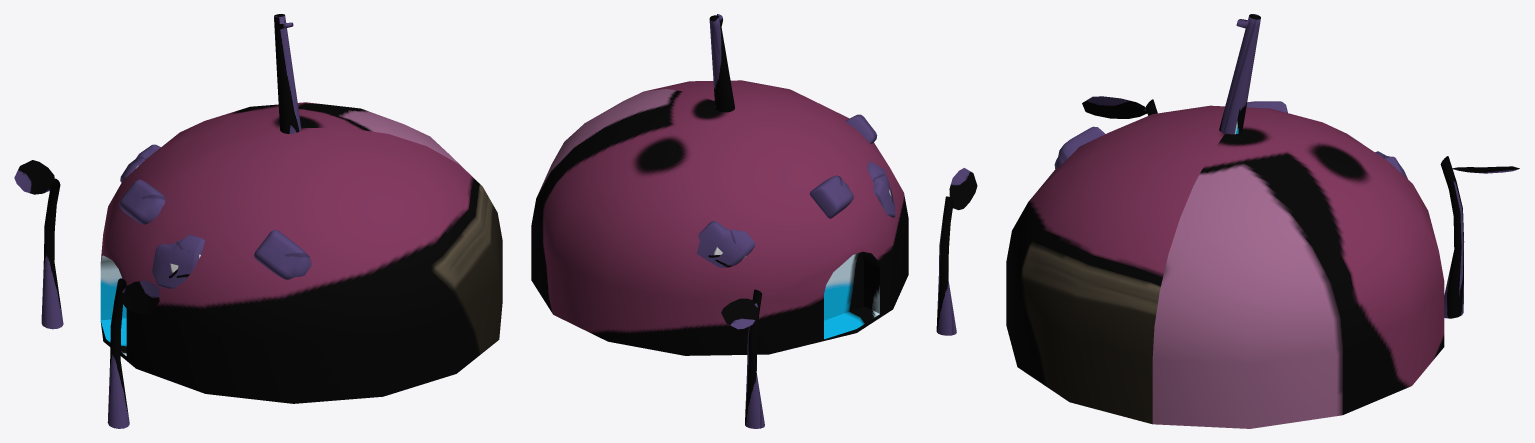
Rendered from Castillo_5.fbx.
3 views of the same model, side by side, from view 1: azimuth 30°, elevation 25°; view 2: azimuth 150°, elevation 25°; view 3: azimuth 270°, elevation 25° (orthographic). The views are drawn at different scales.
Parts seen in each view (by area): view 1: pSphere10; view 2: pSphere10; view 3: pSphere10.
Part boxes in pixels (x1=…): pSphere10: x1=14, y1=14, x2=502, y2=428; pSphere10: x1=531, y1=14, x2=977, y2=428; pSphere10: x1=1006, y1=14, x2=1519, y2=428.
Size of the model in its own units: 133 by 109 by 137.
